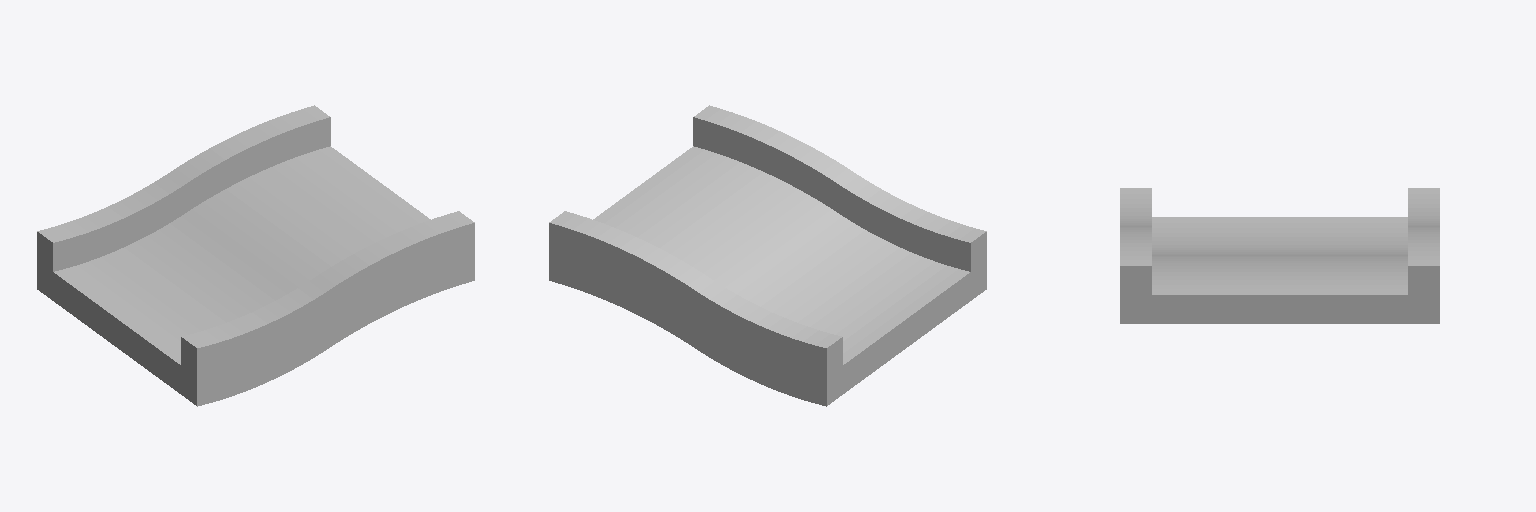
The model's file is mdownslope.obj.
3 renders of one model, left to right at view 1: azimuth 30°, elevation 25°; view 2: azimuth 150°, elevation 25°; view 3: azimuth 270°, elevation 25°, orthographic.
Parts seen in each view (by area): view 1: mdownslope; view 2: mdownslope; view 3: mdownslope.
Boxes of the visible parts, x1,y1,x2,y2 form: mdownslope: [37, 105, 474, 406]; mdownslope: [549, 105, 986, 406]; mdownslope: [1120, 188, 1439, 323].
Size of the model in its own units: 10 by 4 by 10.